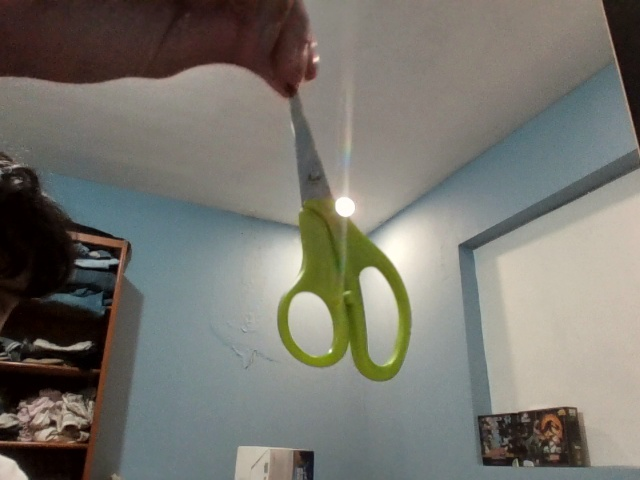tijeras: (277, 93, 416, 381)
